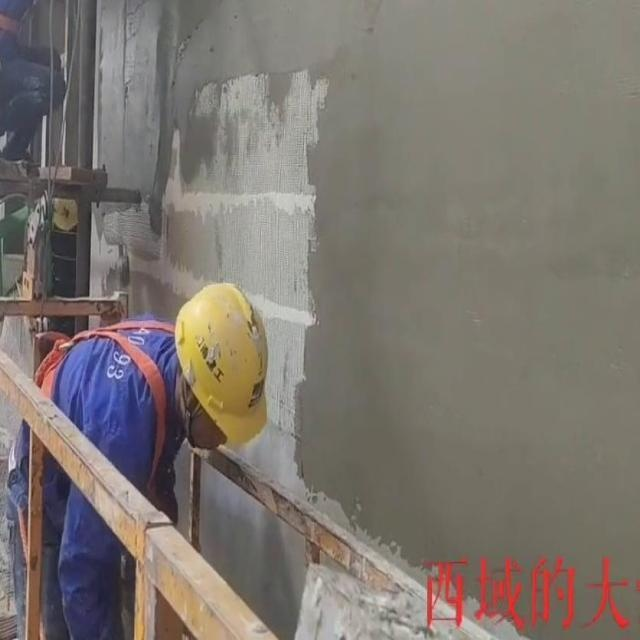Arnes_seguridad: (25, 307, 192, 484)
